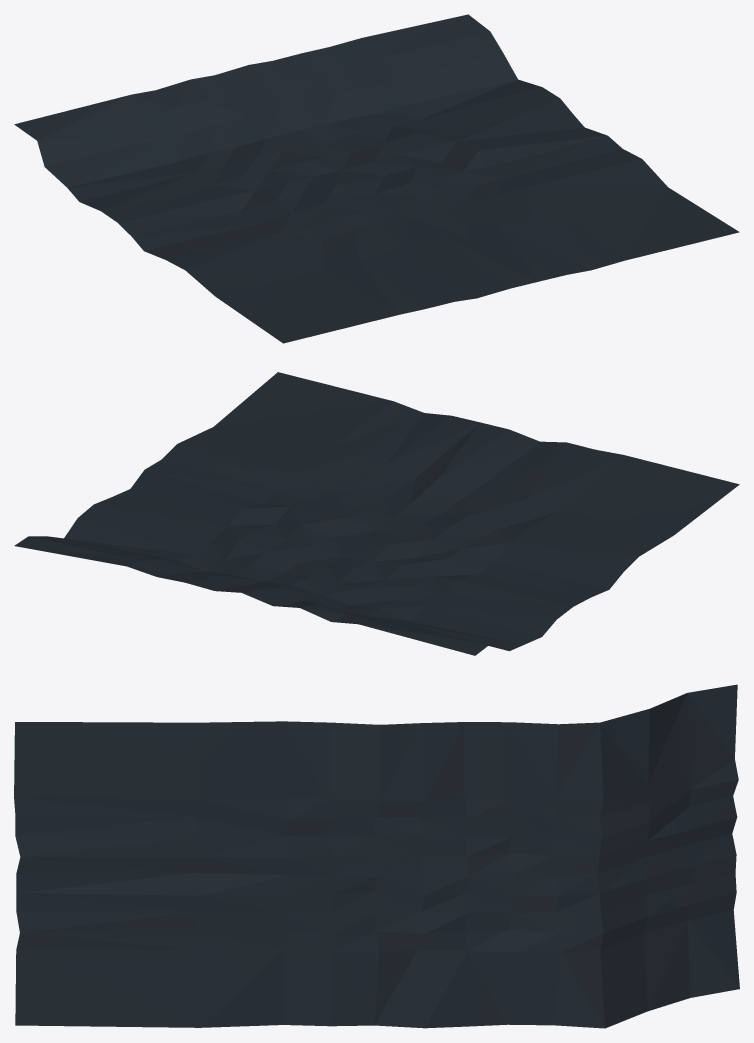
Rendered from seaBottom.fbx.
3 views of the same model, one above another, from view 1: azimuth 30°, elevation 25°; view 2: azimuth 150°, elevation 25°; view 3: azimuth 270°, elevation 25° (orthographic). The views are drawn at different scales.
Parts seen in each view (by area): view 1: seaBottom; view 2: seaBottom; view 3: seaBottom.
Boxes of the visible parts, x1=… form: seaBottom: x1=14, y1=14, x2=739, y2=343; seaBottom: x1=14, y1=372, x2=739, y2=655; seaBottom: x1=14, y1=684, x2=739, y2=1028.
Bounding box in the file's own units: 125 × 8.98 × 125.
